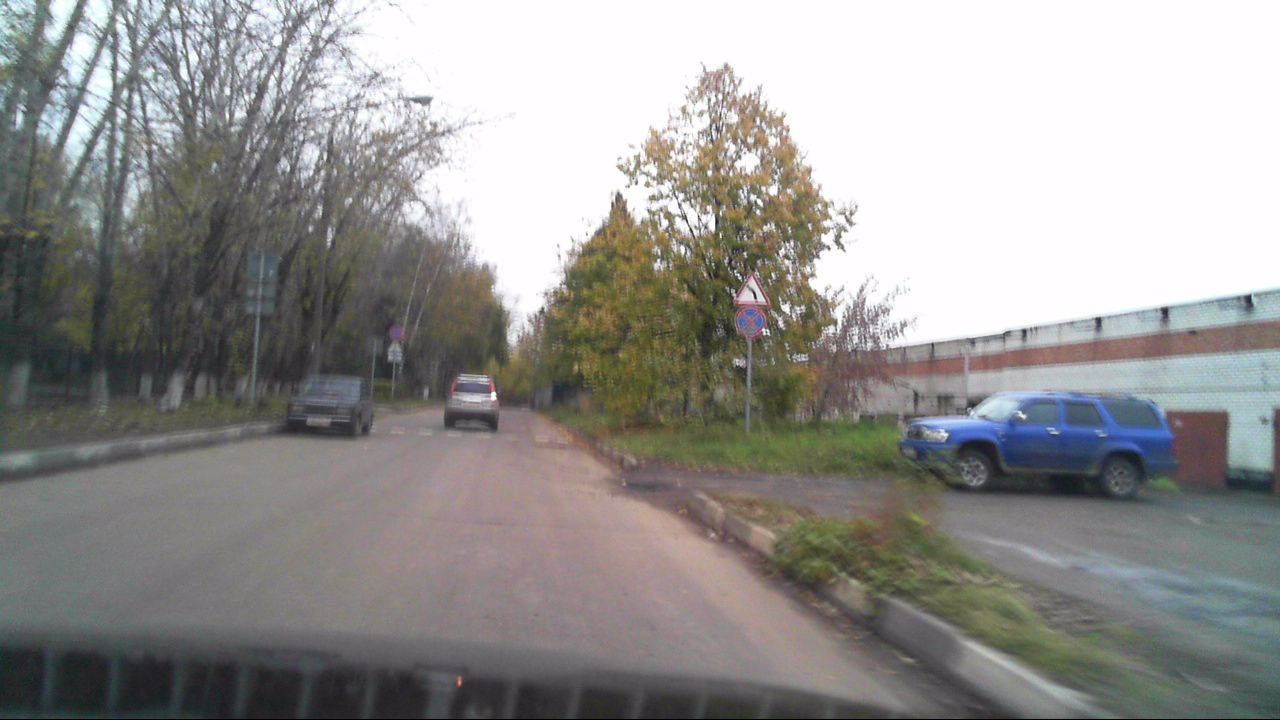No Parking: (734, 308, 764, 335)
